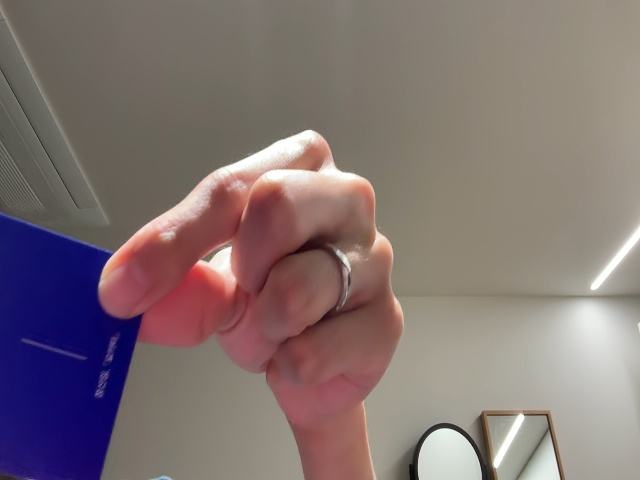card: (1, 214, 150, 480)
